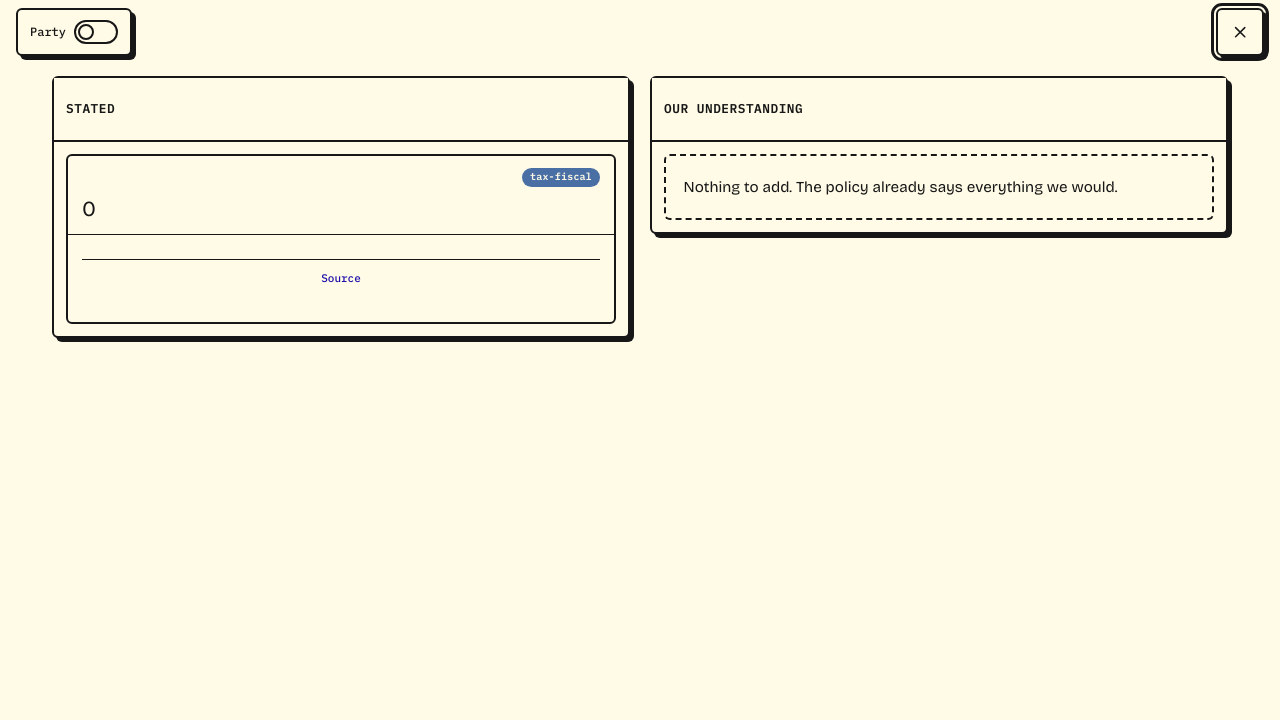
it: App board › opens inspect from a shared card query and clears it on close
The image size is (1280, 720).
expect the dialog named "labour-0" is shown: met, box [32,68,1248,370]
Click the button named "Close policy" at (1240, 32), box [1216,8,1264,56]
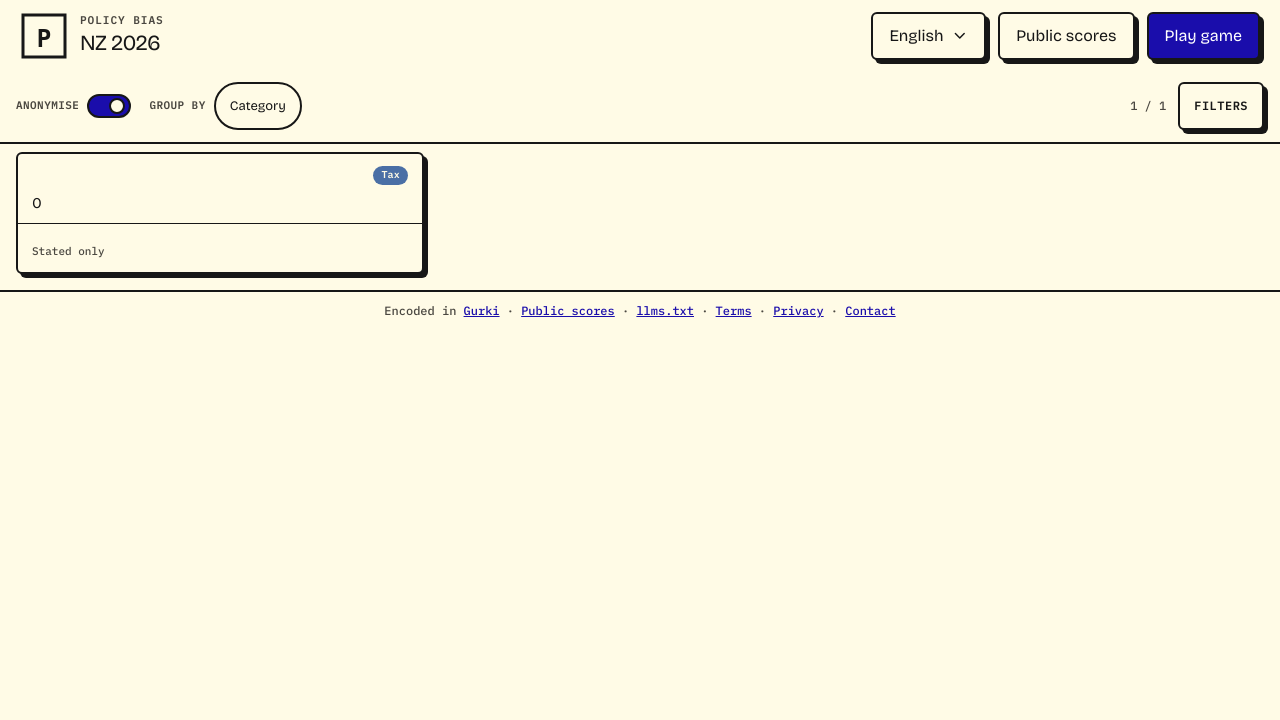
expect the dialog "labour-0" is gone: met
